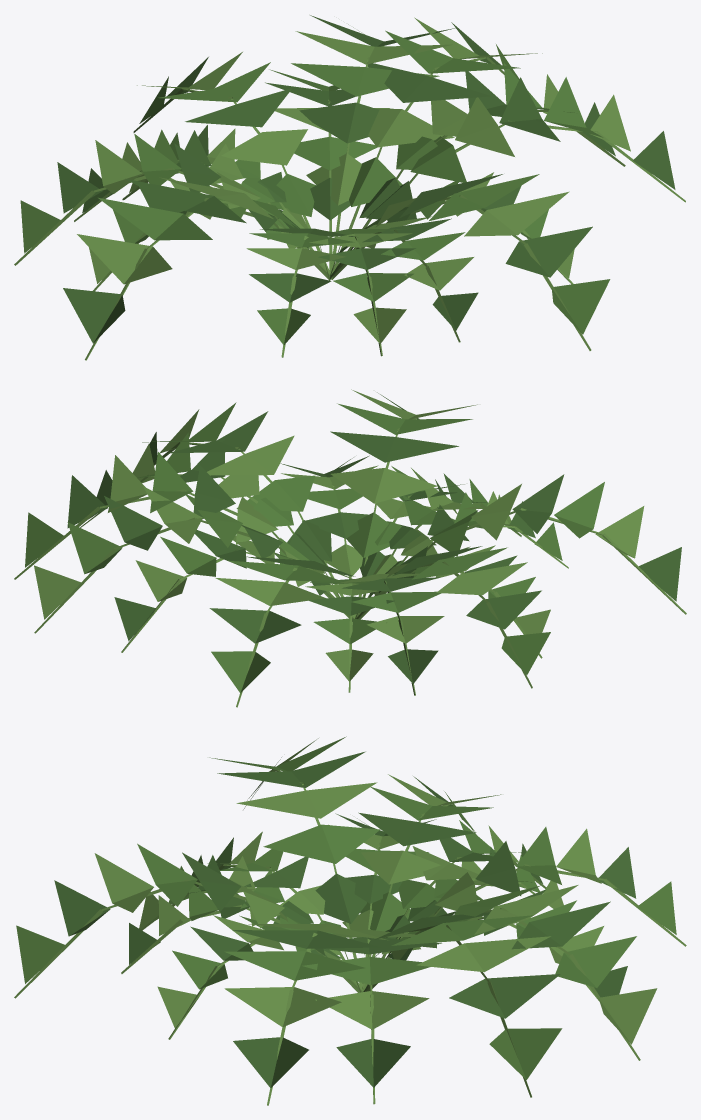
File: fern.glb
3 renders of one model, top to bottom at view 1: azimuth 30°, elevation 25°; view 2: azimuth 150°, elevation 25°; view 3: azimuth 270°, elevation 25°, orthographic. The views are drawn at different scales.
Visible parts, largest first — view 1: fern; view 2: fern; view 3: fern.
Part boxes in pixels (x1,y1,x2,y2): fern: (14, 15, 685, 360); fern: (14, 389, 686, 707); fern: (14, 736, 686, 1105).
Bounding box in the file's own units: 1.8 × 0.425 × 1.74.
